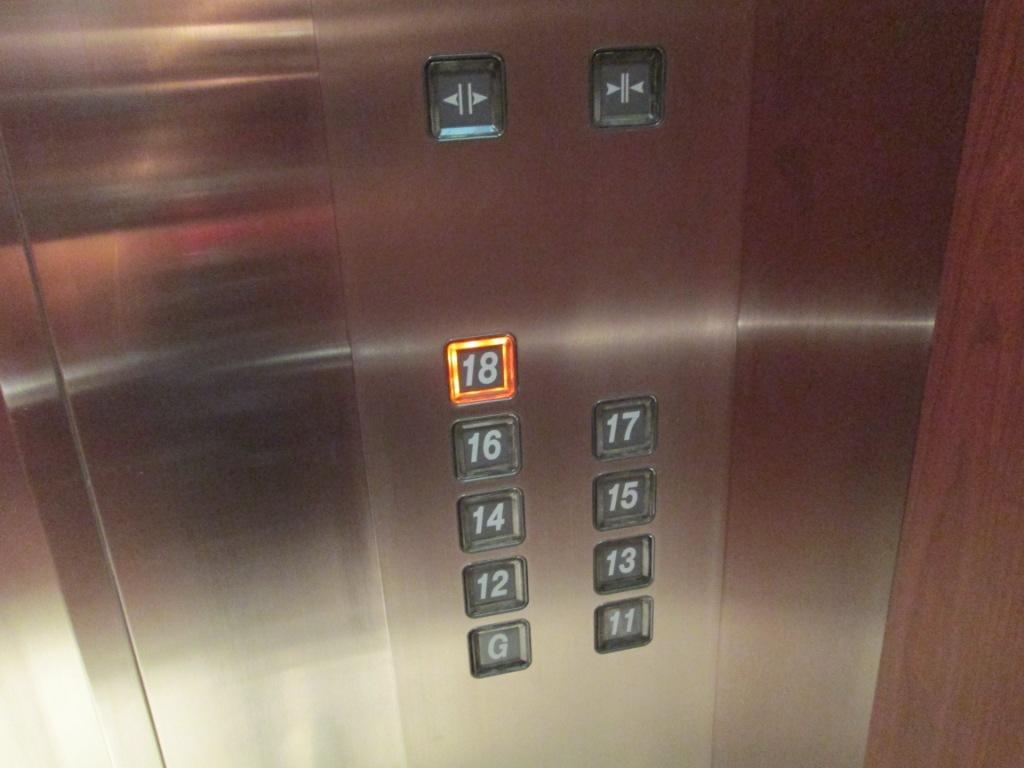11: (591, 594, 654, 656)
12: (459, 552, 529, 618)
13: (592, 532, 655, 597)
14: (454, 486, 525, 554)
15: (592, 465, 655, 533)
16: (450, 413, 522, 483)
17: (590, 396, 657, 462)
18: (444, 334, 519, 405)
G: (464, 617, 533, 679)
close: (584, 43, 665, 131)
open: (421, 52, 505, 143)
